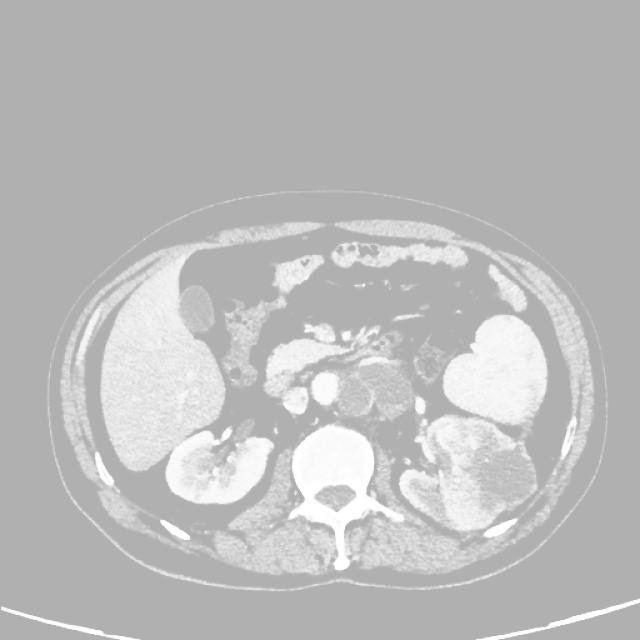TUMOR: (112, 250, 510, 461)
